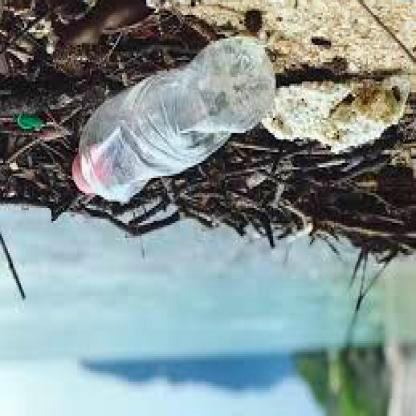Plastic: (69, 32, 279, 205)
